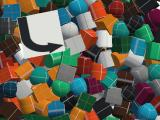Left: (16, 10, 66, 59)
